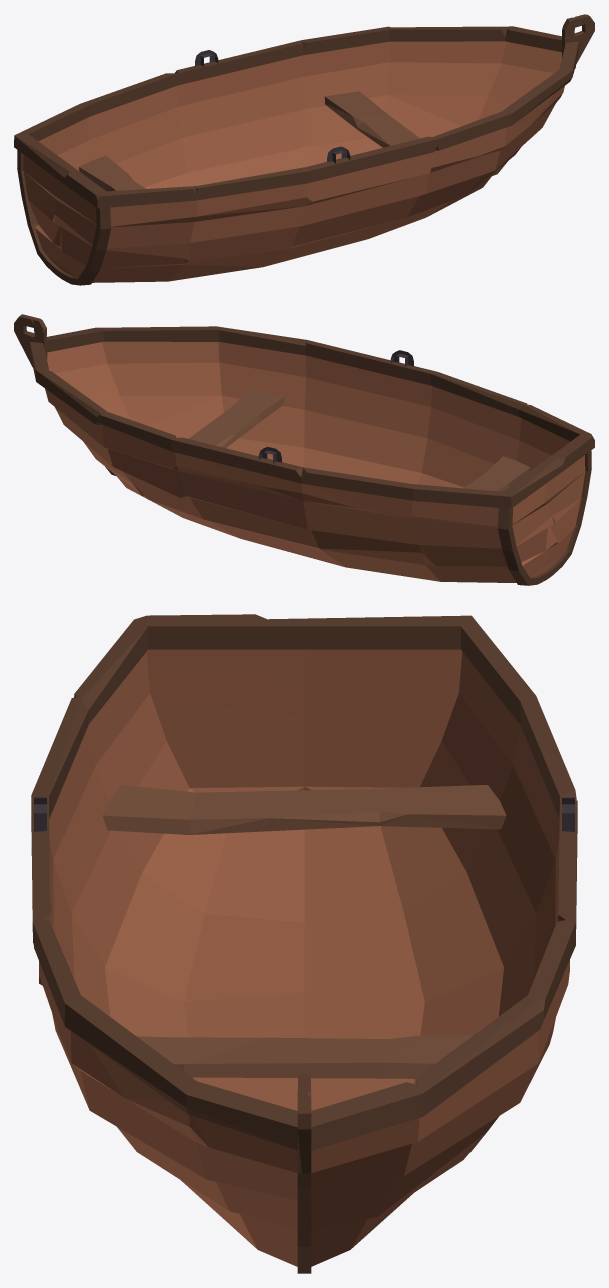
Rendered from Boat Village.fbx.
The picture shows the model from 3 angles, top to bottom: view 1: azimuth 30°, elevation 25°; view 2: azimuth 150°, elevation 25°; view 3: azimuth 270°, elevation 25°; orthographic projection. The views are drawn at different scales.
Visible parts, largest first — view 1: Boat; view 2: Boat; view 3: Boat.
Part boxes in pixels (x1,y1,x2,y2): Boat: (14,14,594,285); Boat: (14,314,594,585); Boat: (31,614,577,1273).
Bounding box in the file's own units: 4.19 × 1.07 × 1.84.
